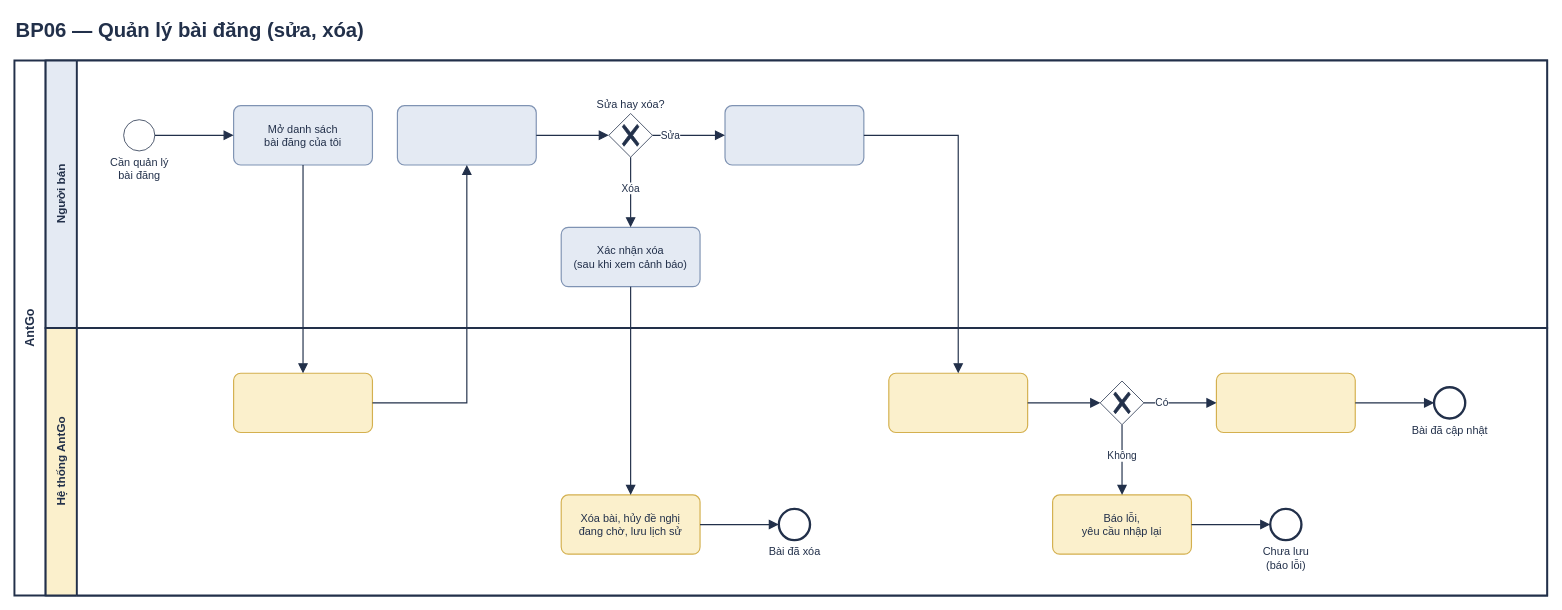
The diagram is 1562 pixels wide and 610 high, and some of its shapes have lost their labels. Each missing label, with the centre of its shape:
"Chọn bài cần xử lý" goes at point (466, 135).
"Cập nhật bài, lưu lịch sử thay đổi" goes at point (1285, 402).
"Dữ liệu hợp lệ?" goes at point (1121, 402).
"Hiển thị bài đăng của người bán" goes at point (303, 402).
"Kiểm tra dữ liệu hợp lệ" goes at point (958, 402).
"Nhập thông tin mới, bấm lưu" goes at point (794, 135).
